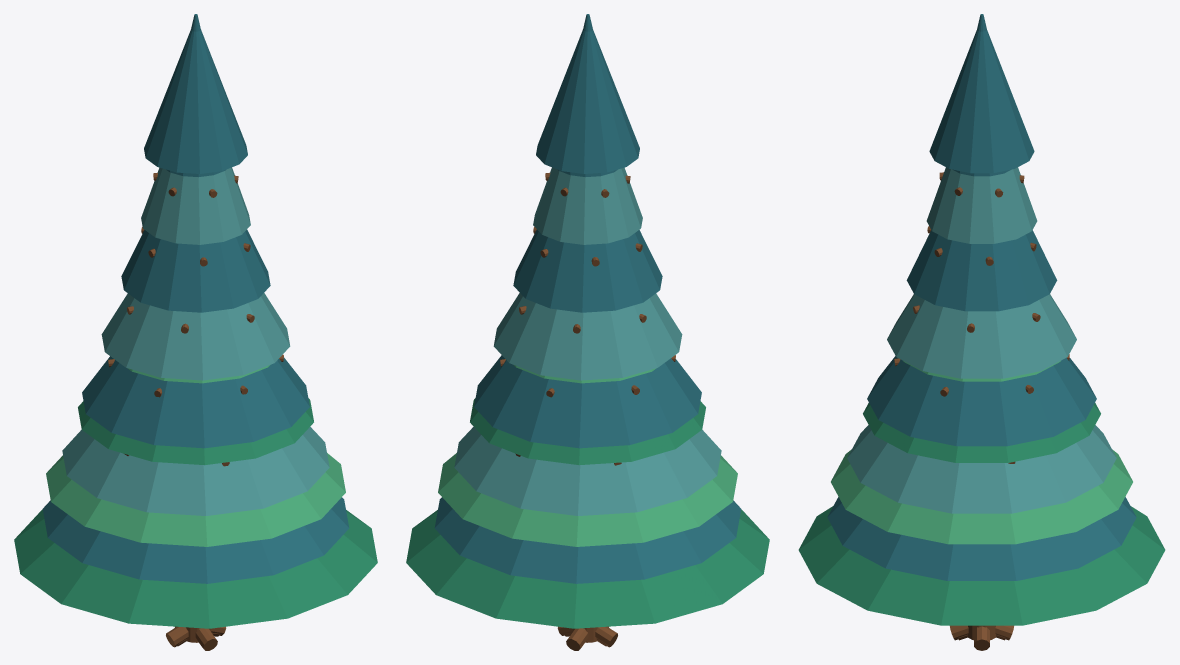
Rendered from SM_SolCity_Conifers_01.fbx.
3 views of the same model, side by side, from view 1: azimuth 30°, elevation 25°; view 2: azimuth 150°, elevation 25°; view 3: azimuth 270°, elevation 25° (orthographic).
Parts seen in each view (by area): view 1: SM_SolCity_Conifer_02, SM_SolCity_Conifer_01; view 2: SM_SolCity_Conifer_02, SM_SolCity_Conifer_01; view 3: SM_SolCity_Conifer_02, SM_SolCity_Conifer_01.
Boxes of the visible parts, bbox=[...] form: SM_SolCity_Conifer_02: bbox=[42, 14, 349, 648]; SM_SolCity_Conifer_01: bbox=[14, 365, 377, 650]; SM_SolCity_Conifer_02: bbox=[434, 14, 741, 648]; SM_SolCity_Conifer_01: bbox=[406, 365, 769, 650]; SM_SolCity_Conifer_02: bbox=[827, 14, 1136, 640]; SM_SolCity_Conifer_01: bbox=[798, 361, 1165, 650].
Bounding box in the file's own units: 4.97 × 5.1 × 9.59.
